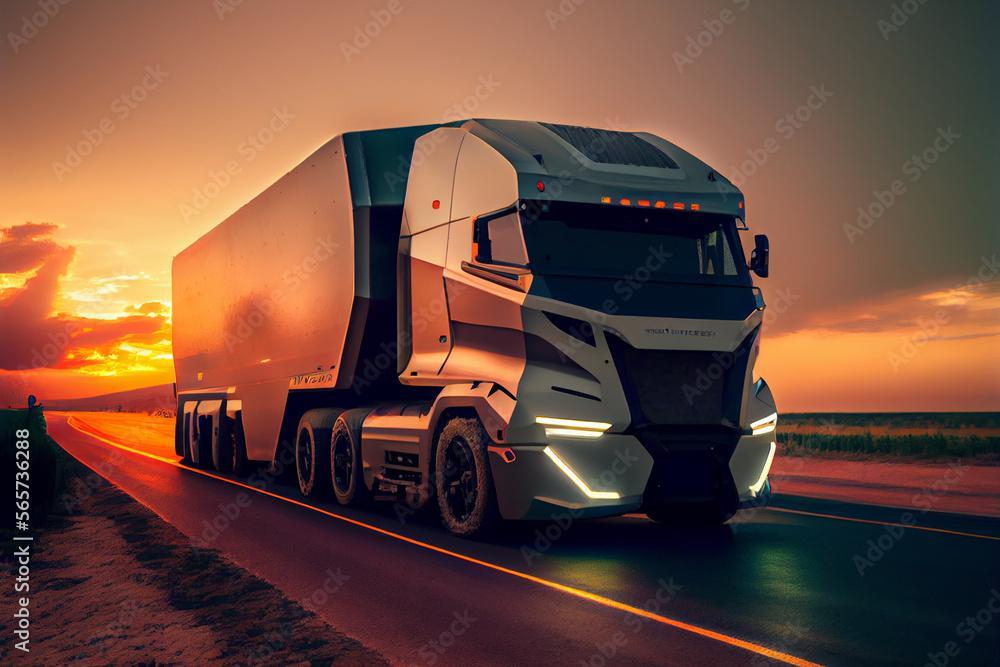truck: (108, 82, 847, 557)
